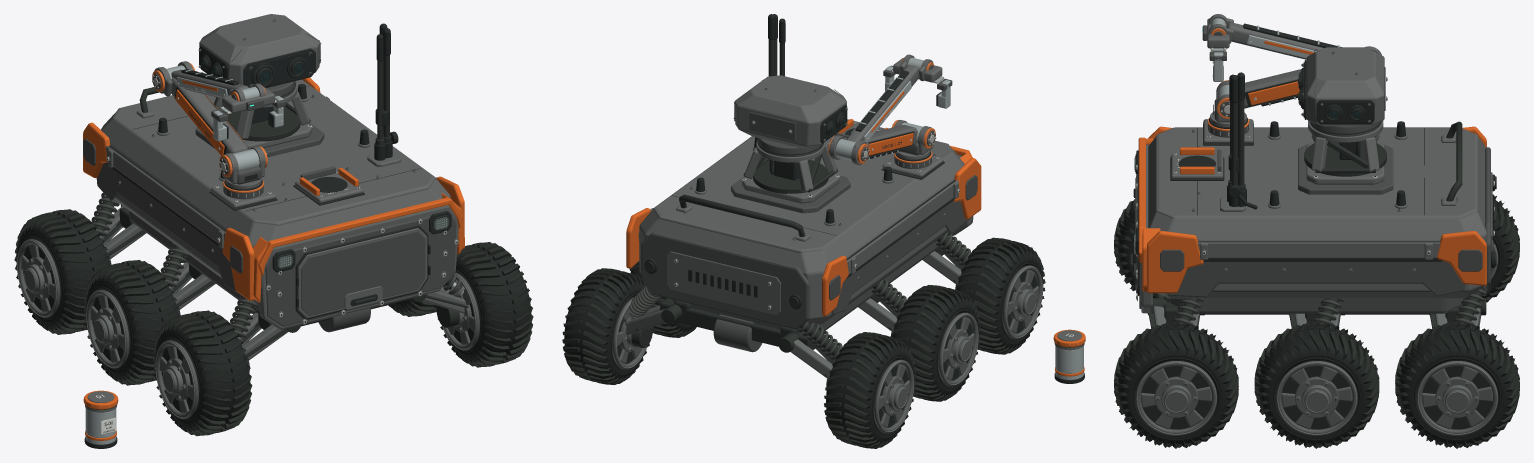
The model's file is enemy_rover.glb.
The picture shows the model from 3 angles, left to right: view 1: azimuth 30°, elevation 25°; view 2: azimuth 150°, elevation 25°; view 3: azimuth 270°, elevation 25°; orthographic projection. The views are drawn at different scales.
Visible parts, largest first — view 1: 00 | Main armored chassis & deck, 01 | Front armor, inspection hatch & lamps, 07 | Port front complete wheel, 07 | Port rear complete wheel, 07 | Port middle complete wheel, 02 | Port side armor & corner guards, 07 | Starboard front complete wheel, 09 | Faceted multi-camera sensor head, 08 | Open sensor mast, turntable & wiring, ARM 03 | upper link and shoulder drive, 10 | Triple communications antenna assembly, SAMPLE 01 | deck receiving cradle (+12 smaller); view 2: 00 | Main armored chassis & deck, 04 | Rear cooling panel, sockets & carry rail, 07 | Port rear complete wheel, 07 | Port middle complete wheel, 07 | Port front complete wheel, 07 | Starboard rear complete wheel, 02 | Port side armor & corner guards, 09 | Faceted multi-camera sensor head, 08 | Open sensor mast, turntable & wiring, 05 | Undercarriage, subframe & drive cases, ARM 04 | forearm and elbow drive, ARM 03 | upper link and shoulder drive (+11 smaller); view 3: 00 | Main armored chassis & deck, 03 | Starboard side armor & corner guards, 07 | Starboard rear complete wheel, 07 | Starboard middle complete wheel, 07 | Starboard front complete wheel, 09 | Faceted multi-camera sensor head, 08 | Open sensor mast, turntable & wiring, 01 | Front armor, inspection hatch & lamps, 10 | Triple communications antenna assembly, ARM 04 | forearm and elbow drive, 07 | Port rear complete wheel, 04 | Rear cooling panel, sockets & carry rail (+11 smaller).
Part boxes in pixels (left/top/right/bottom): 00 | Main armored chassis & deck: left=101, top=79, right=450, bottom=313; 01 | Front armor, inspection hatch & lamps: left=253, top=193, right=463, bottom=329; 07 | Port front complete wheel: left=153, top=310, right=252, bottom=436; 07 | Port rear complete wheel: left=14, top=209, right=110, bottom=334; 07 | Port middle complete wheel: left=83, top=260, right=179, bottom=385; 02 | Port side armor & corner guards: left=83, top=122, right=254, bottom=300; 07 | Starboard front complete wheel: left=436, top=242, right=533, bottom=367; 09 | Faceted multi-camera sensor head: left=198, top=14, right=321, bottom=87; 08 | Open sensor mast, turntable & wiring: left=195, top=81, right=324, bottom=157; ARM 03 | upper link and shoulder drive: left=154, top=61, right=268, bottom=177; 10 | Triple communications antenna assembly: left=367, top=23, right=401, bottom=166; SAMPLE 01 | deck receiving cradle: left=293, top=166, right=364, bottom=205; 00 | Main armored chassis & deck: left=639, top=119, right=964, bottom=333; 04 | Rear cooling panel, sockets & carry rail: left=641, top=194, right=810, bottom=329; 07 | Port rear complete wheel: left=824, top=332, right=916, bottom=448; 07 | Port middle complete wheel: left=891, top=285, right=980, bottom=401; 07 | Port front complete wheel: left=955, top=237, right=1045, bottom=354; 07 | Starboard rear complete wheel: left=562, top=268, right=654, bottom=384; 02 | Port side armor & corner guards: left=822, top=157, right=981, bottom=316; 09 | Faceted multi-camera sensor head: left=733, top=74, right=847, bottom=147; 08 | Open sensor mast, turntable & wiring: left=731, top=138, right=850, bottom=213; 05 | Undercarriage, subframe & drive cases: left=660, top=245, right=946, bottom=352; ARM 04 | forearm and elbow drive: left=828, top=54, right=933, bottom=163; ARM 03 | upper link and shoulder drive: left=829, top=120, right=936, bottom=165; 00 | Main armored chassis & deck: left=1148, top=121, right=1486, bottom=313; 03 | Starboard side armor & corner guards: left=1147, top=231, right=1486, bottom=297; 07 | Starboard rear complete wheel: left=1395, top=321, right=1519, bottom=448; 07 | Starboard middle complete wheel: left=1254, top=321, right=1379, bottom=448; 07 | Starboard front complete wheel: left=1114, top=322, right=1238, bottom=448; 09 | Faceted multi-camera sensor head: left=1298, top=47, right=1387, bottom=126; 08 | Open sensor mast, turntable & wiring: left=1298, top=121, right=1393, bottom=194; 01 | Front armor, inspection hatch & lamps: left=1130, top=137, right=1160, bottom=313; 10 | Triple communications antenna assembly: left=1220, top=72, right=1257, bottom=211; ARM 04 | forearm and elbow drive: left=1208, top=14, right=1341, bottom=59; 07 | Port rear complete wheel: left=1481, top=194, right=1519, bottom=302; 04 | Rear cooling panel, sockets & carry rail: left=1441, top=121, right=1496, bottom=291.
Bounding box in the file's own units: 5.67 × 4.27 × 4.68.
